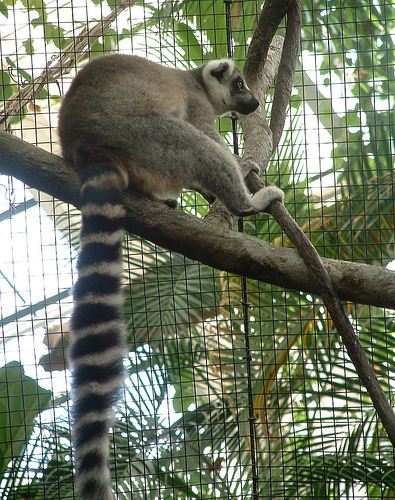cat: (56, 50, 288, 498)
